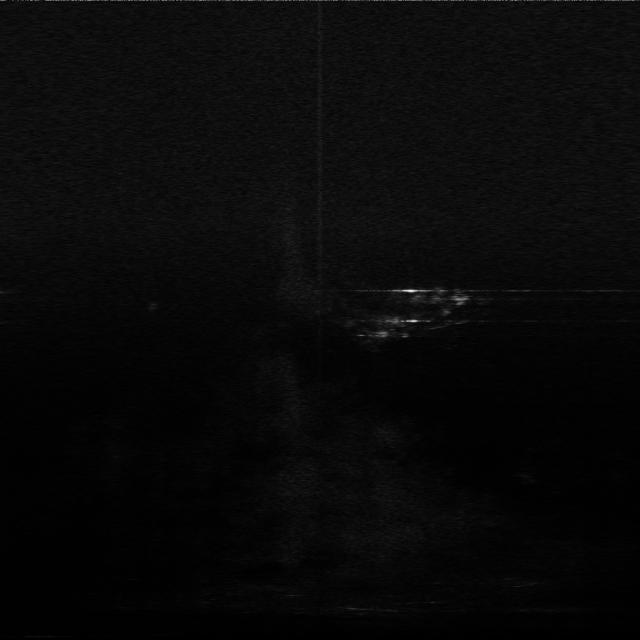rov: (446, 292, 480, 310)
